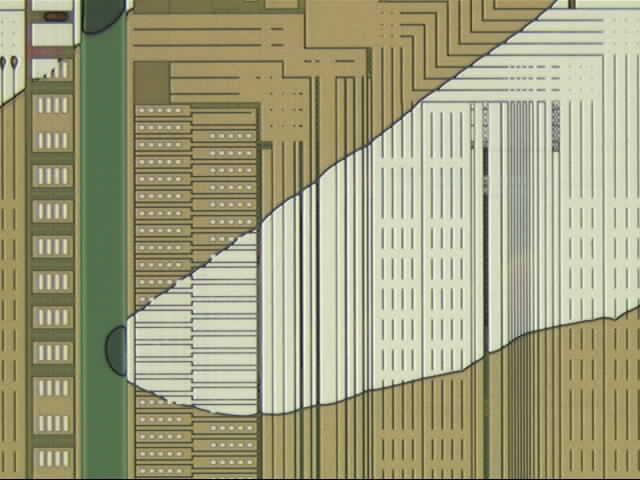COATING BAD: (1, 1, 640, 422)
